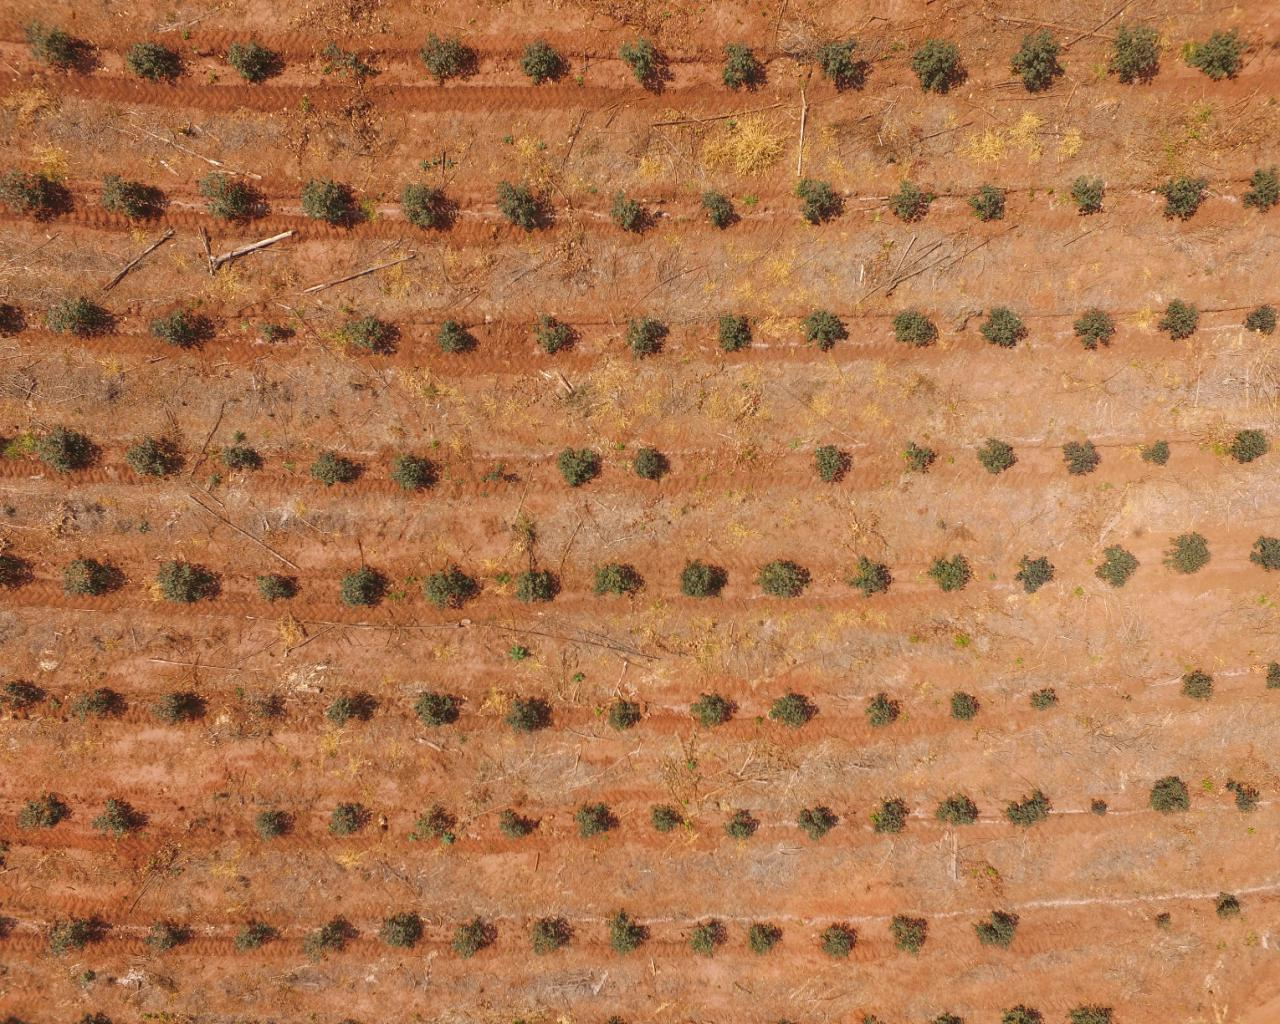Tree: (1006, 27, 1069, 99), (1190, 21, 1250, 84), (715, 36, 767, 96), (1112, 23, 1159, 89), (909, 39, 961, 96), (813, 42, 871, 92), (425, 29, 473, 84), (843, 556, 897, 601), (589, 560, 642, 601), (304, 181, 351, 225), (1092, 546, 1143, 586), (754, 559, 810, 596), (110, 176, 155, 219), (6, 172, 56, 210), (614, 45, 665, 83), (207, 180, 255, 216), (692, 691, 736, 730), (974, 909, 1018, 949), (999, 796, 1054, 828), (933, 793, 980, 829), (925, 557, 977, 588), (797, 184, 845, 217), (33, 28, 78, 64), (678, 560, 724, 595), (627, 318, 667, 356), (770, 691, 812, 727), (558, 451, 602, 486), (1062, 441, 1104, 475), (1170, 535, 1209, 573), (976, 440, 1018, 474), (429, 572, 473, 604), (406, 185, 442, 225), (501, 189, 537, 227), (1150, 777, 1187, 815), (131, 44, 169, 79), (805, 317, 846, 349), (537, 317, 574, 352), (134, 443, 170, 479), (45, 433, 85, 465), (521, 48, 563, 78), (397, 455, 432, 491), (162, 567, 204, 597), (888, 920, 927, 951), (21, 800, 67, 827), (973, 184, 1007, 218), (1227, 783, 1261, 817), (1167, 180, 1201, 215), (897, 311, 934, 343), (234, 49, 272, 80), (876, 796, 909, 831), (610, 191, 642, 228), (416, 696, 460, 722), (813, 448, 850, 480), (1018, 559, 1054, 590), (1075, 316, 1115, 344), (865, 694, 900, 726), (633, 448, 669, 480), (330, 51, 370, 78), (719, 316, 751, 348), (439, 320, 472, 351), (986, 311, 1021, 342), (606, 699, 641, 729), (533, 917, 561, 954), (704, 193, 737, 225), (359, 320, 391, 352), (1165, 304, 1197, 335), (608, 917, 642, 948), (1180, 670, 1215, 698), (749, 925, 782, 955), (162, 317, 203, 341), (318, 455, 351, 484), (518, 572, 552, 601), (100, 807, 133, 836), (1215, 889, 1241, 925), (383, 921, 420, 946), (54, 926, 92, 950), (60, 305, 101, 326), (68, 567, 106, 590), (577, 809, 611, 834), (693, 921, 718, 955), (332, 807, 362, 836), (1249, 305, 1277, 335), (1253, 174, 1280, 206), (824, 927, 852, 958), (1235, 433, 1264, 461), (909, 443, 936, 473), (223, 445, 258, 468), (894, 193, 923, 222), (161, 695, 190, 722), (801, 811, 832, 837), (1254, 538, 1279, 569), (512, 704, 545, 727), (653, 806, 682, 832), (1075, 183, 1103, 209), (349, 575, 375, 603), (724, 812, 753, 837), (309, 926, 343, 948), (236, 926, 269, 948), (260, 577, 295, 597), (951, 695, 978, 720), (4, 682, 33, 704), (416, 815, 445, 837), (77, 694, 111, 713), (499, 813, 528, 835), (1145, 440, 1169, 464), (258, 813, 282, 836), (1030, 688, 1055, 709), (458, 929, 480, 951), (1266, 660, 1279, 693), (155, 927, 174, 947), (333, 701, 349, 723), (260, 322, 280, 339), (1090, 798, 1107, 815), (490, 466, 505, 482), (1156, 916, 1176, 928)
Wood: (301, 251, 420, 302), (194, 225, 294, 279), (99, 229, 174, 293), (883, 236, 953, 298), (239, 528, 301, 572), (797, 89, 809, 179)
